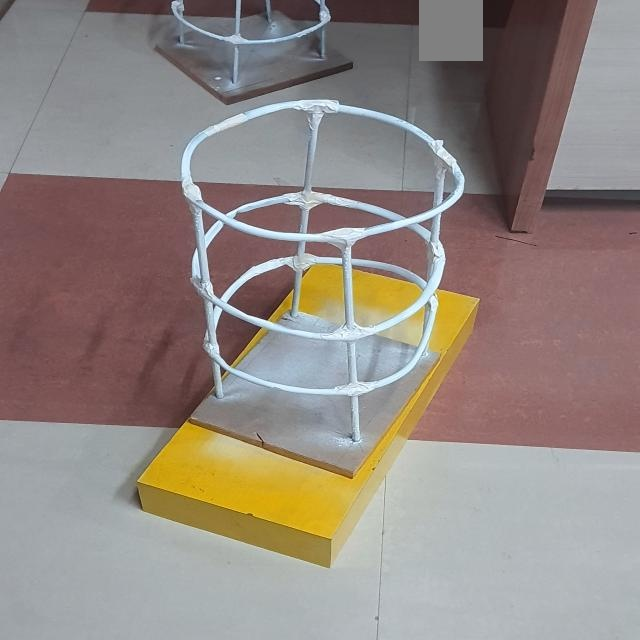silo: (174, 103, 455, 470)
